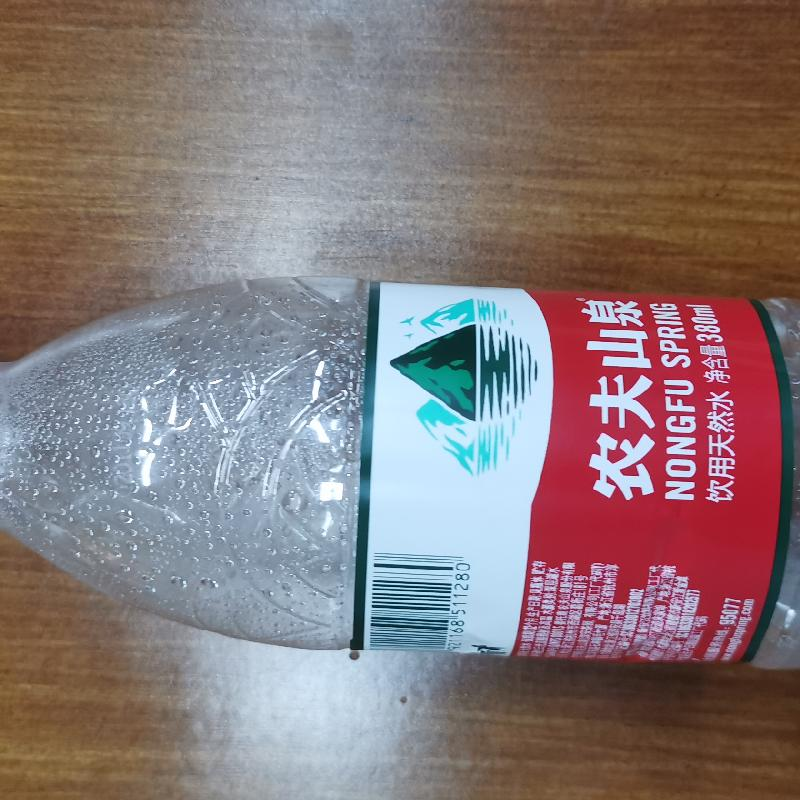bottles: (2, 273, 799, 678)
